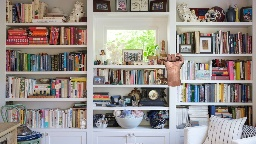Pugno: (161, 51, 185, 70)
